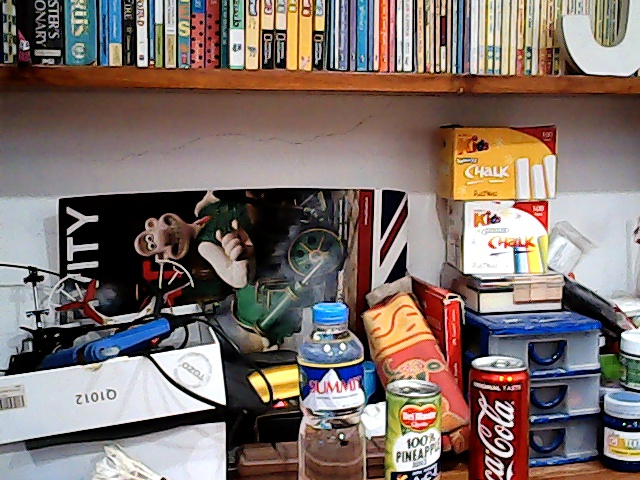Cola: (461, 346, 531, 480)
Pine Juice: (380, 374, 444, 480)
Summit Water: (288, 292, 370, 480)
